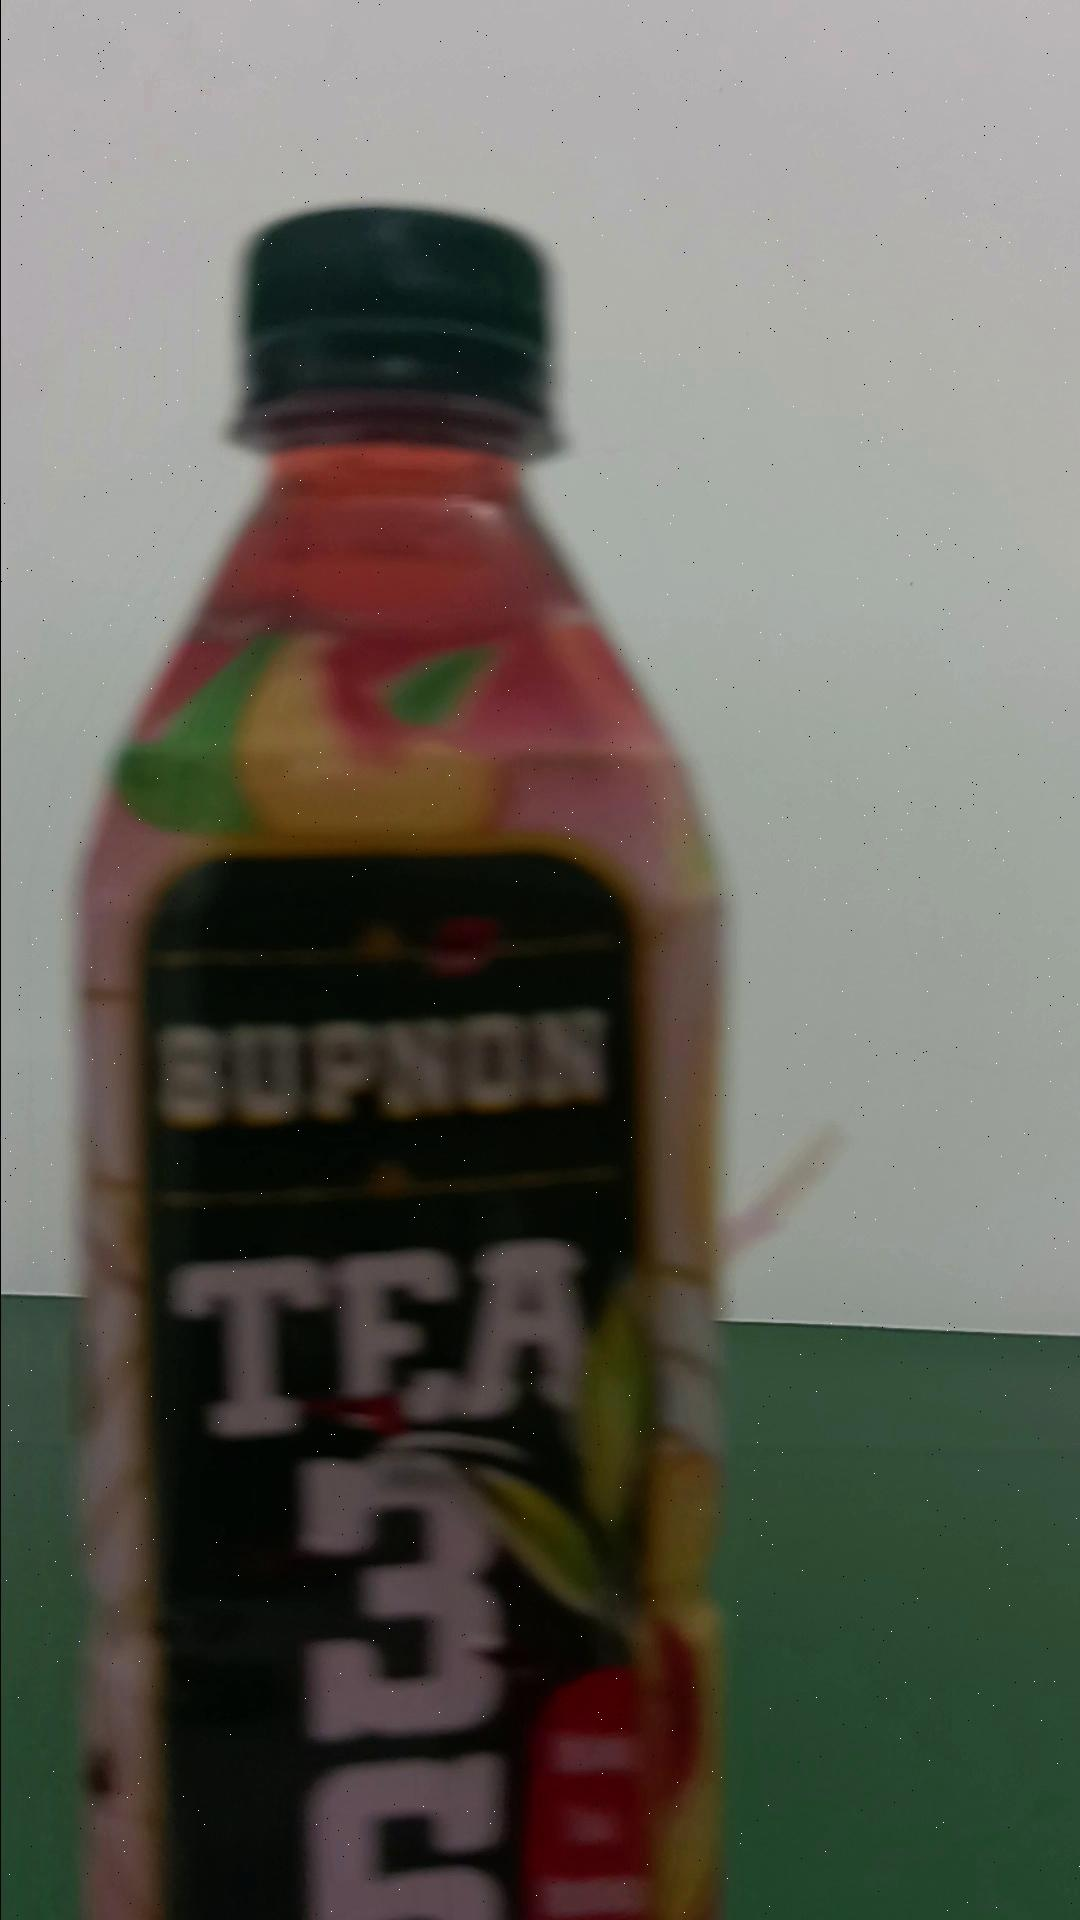loi rach va lap chai: (76, 193, 756, 1913)
